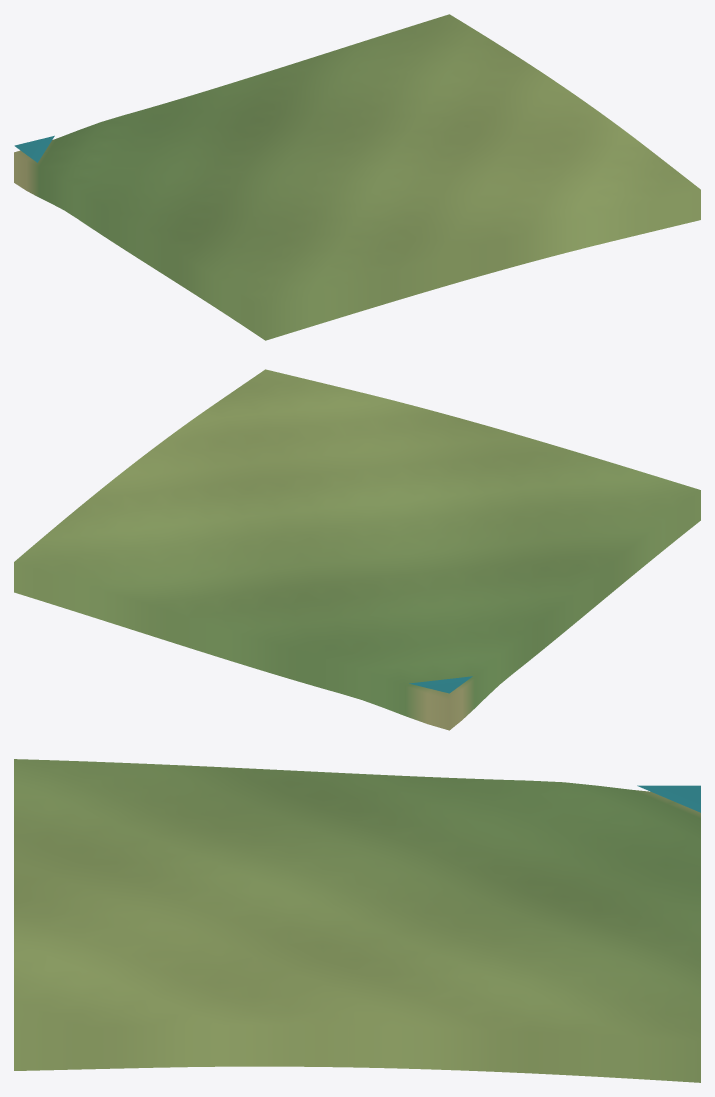
3 renders of one model, top to bottom at view 1: azimuth 30°, elevation 25°; view 2: azimuth 150°, elevation 25°; view 3: azimuth 270°, elevation 25°, orthographic. The views are drawn at different scales.
Parts seen in each view (by area): view 1: terrain; view 2: terrain; view 3: terrain, scenery.
Boxes of the visible parts, box(x1,y1,x2,y2) form: terrain: box(14, 14, 700, 340); terrain: box(14, 369, 700, 730); terrain: box(14, 759, 700, 1082); scenery: box(637, 785, 700, 812).
Bounding box in the file's own units: 30 × 4.89 × 30.
